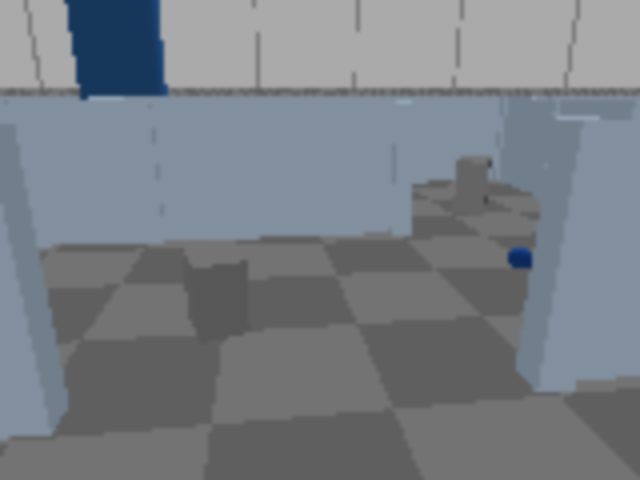obstacle: (182, 240, 250, 343)
puck: (506, 243, 537, 274)
